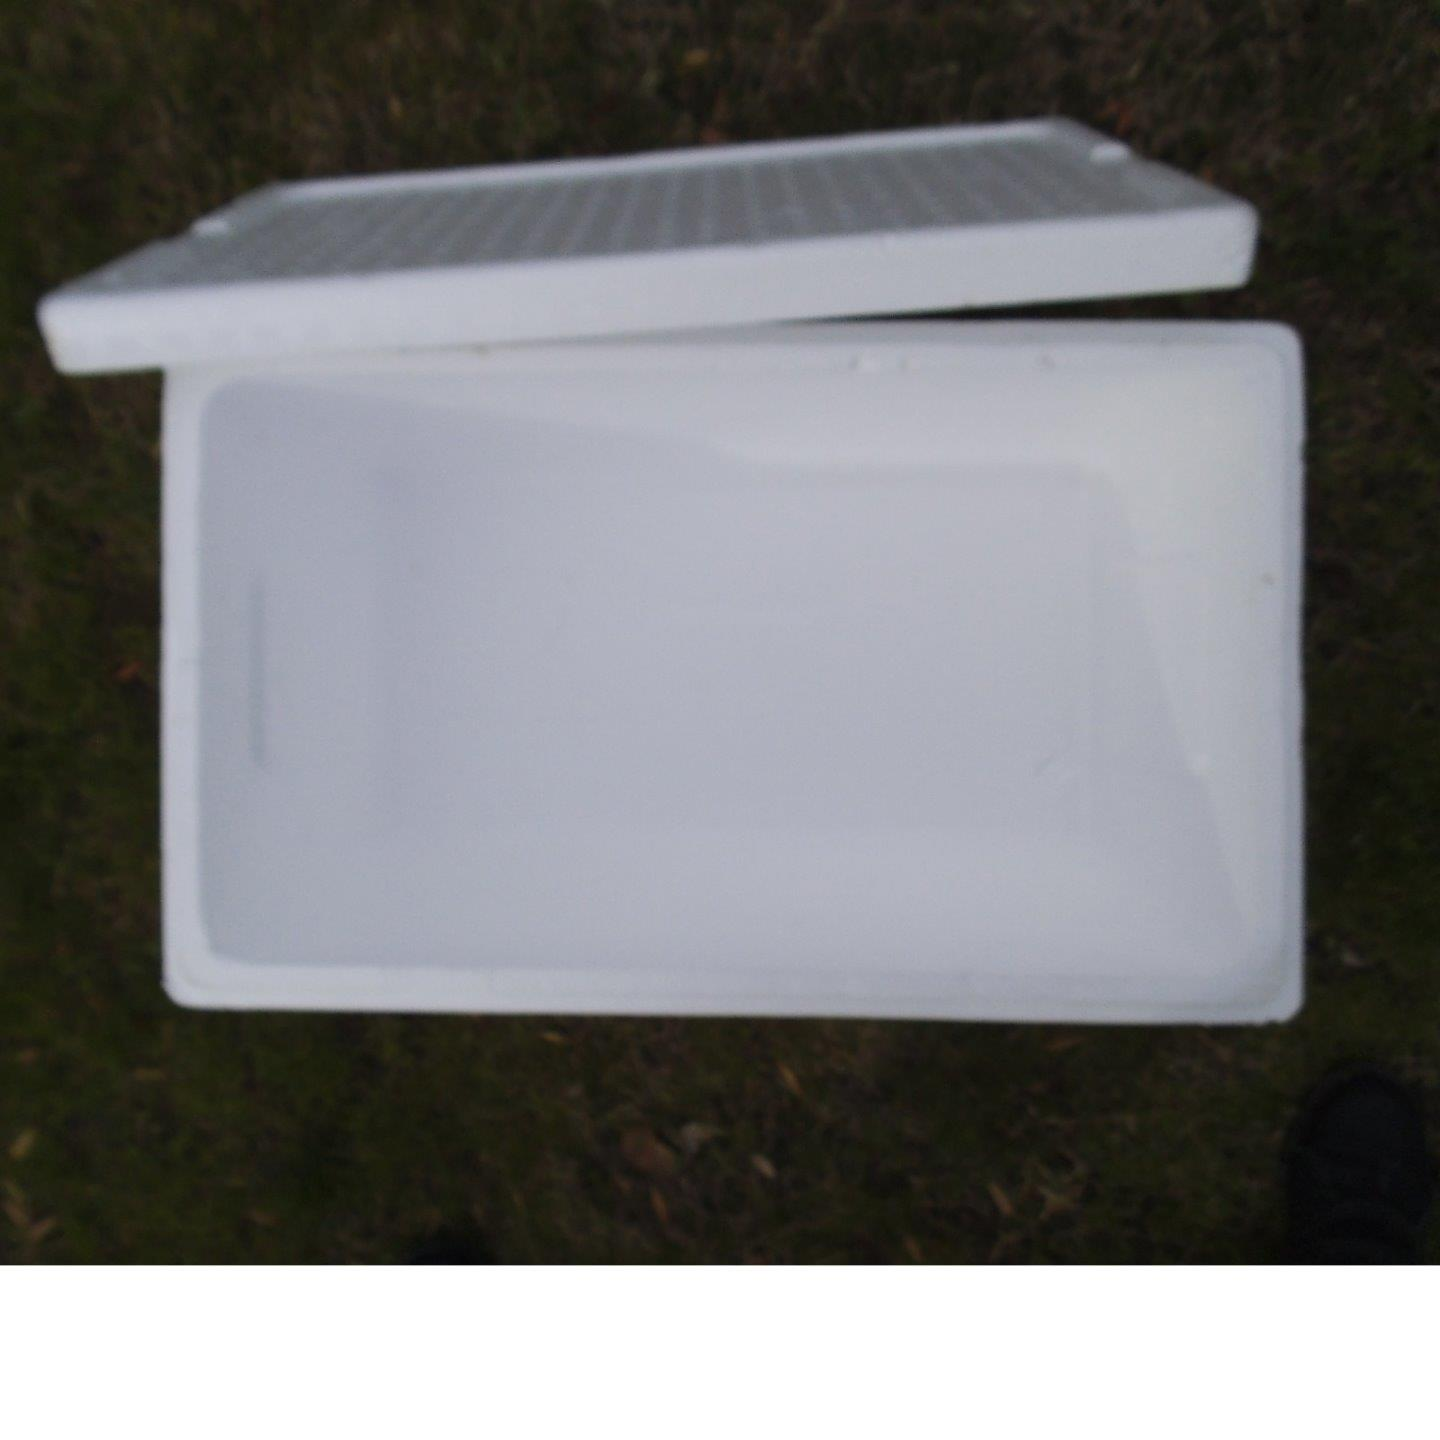Nonrec_Plastic: (50, 142, 1337, 1036)
